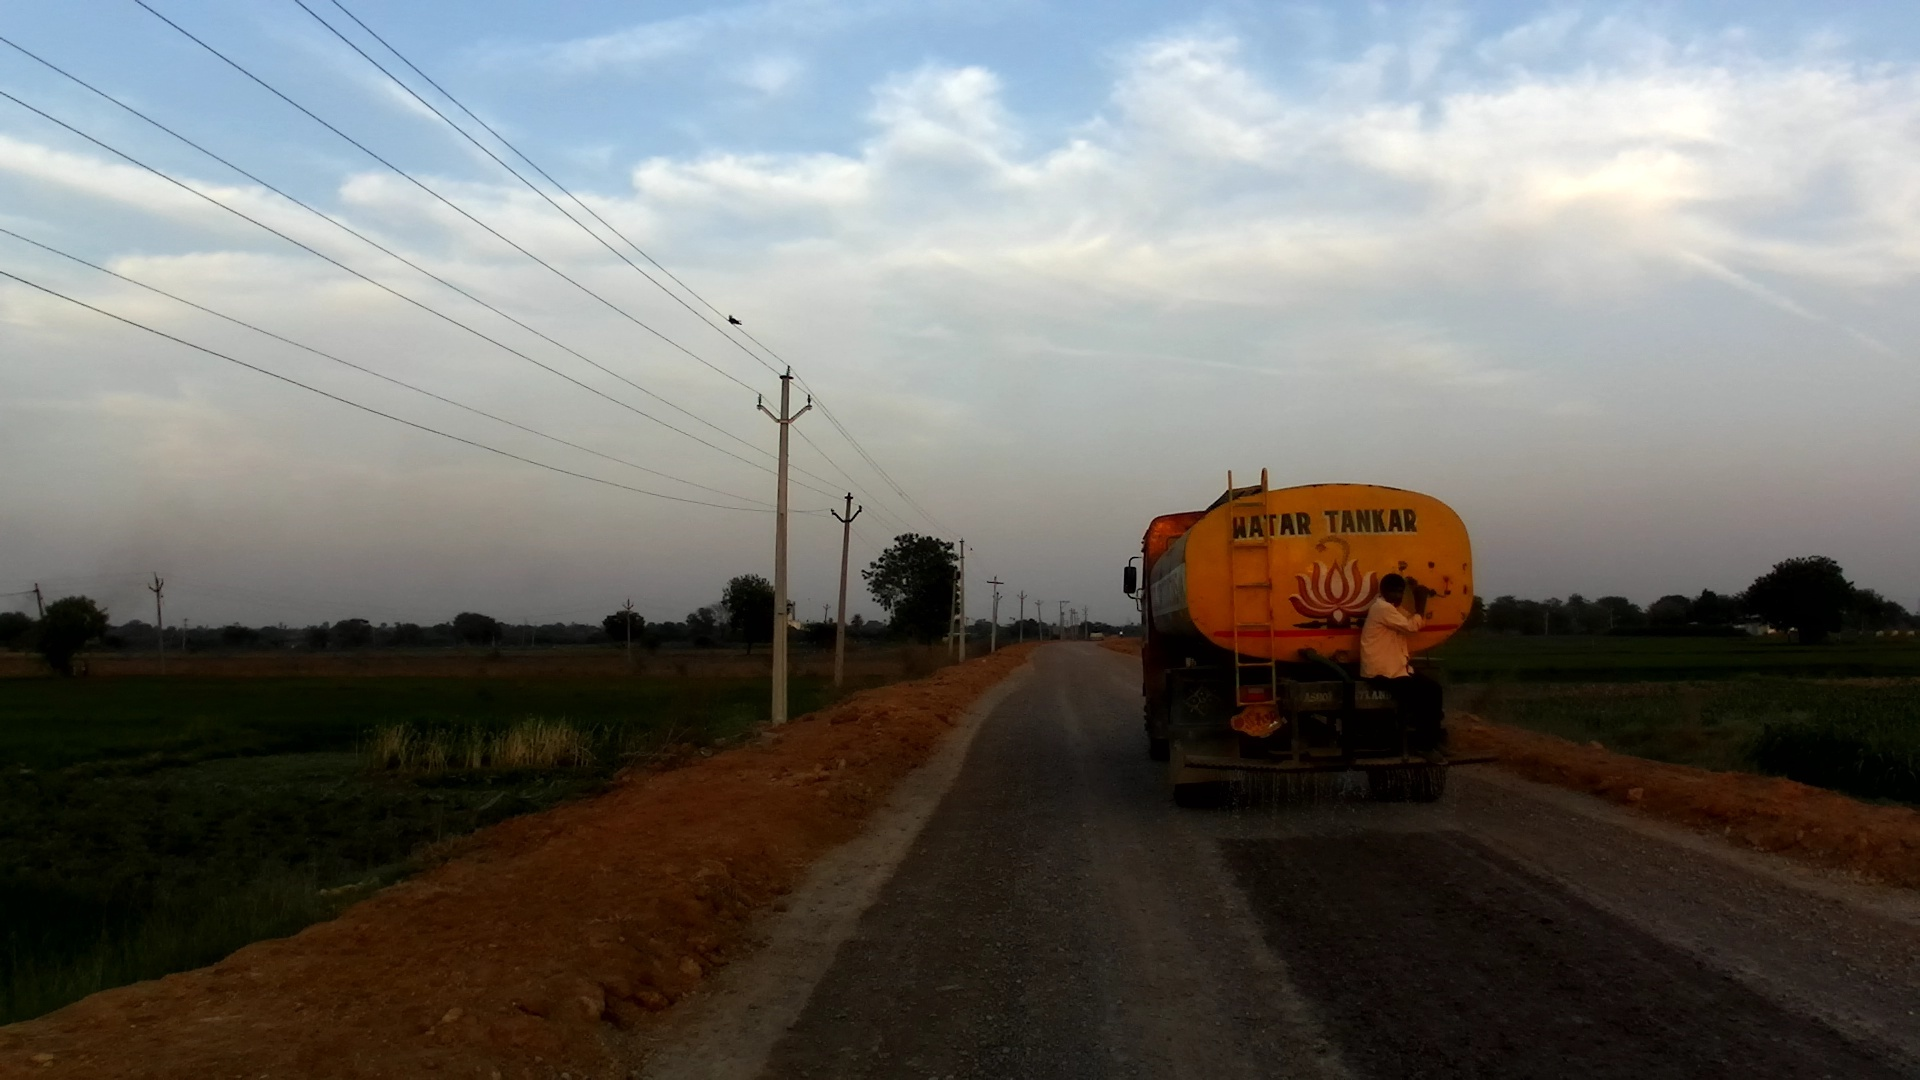rider: (1356, 571, 1450, 770)
truck: (1115, 465, 1477, 822)
vehicle fallback: (1089, 629, 1104, 645)
